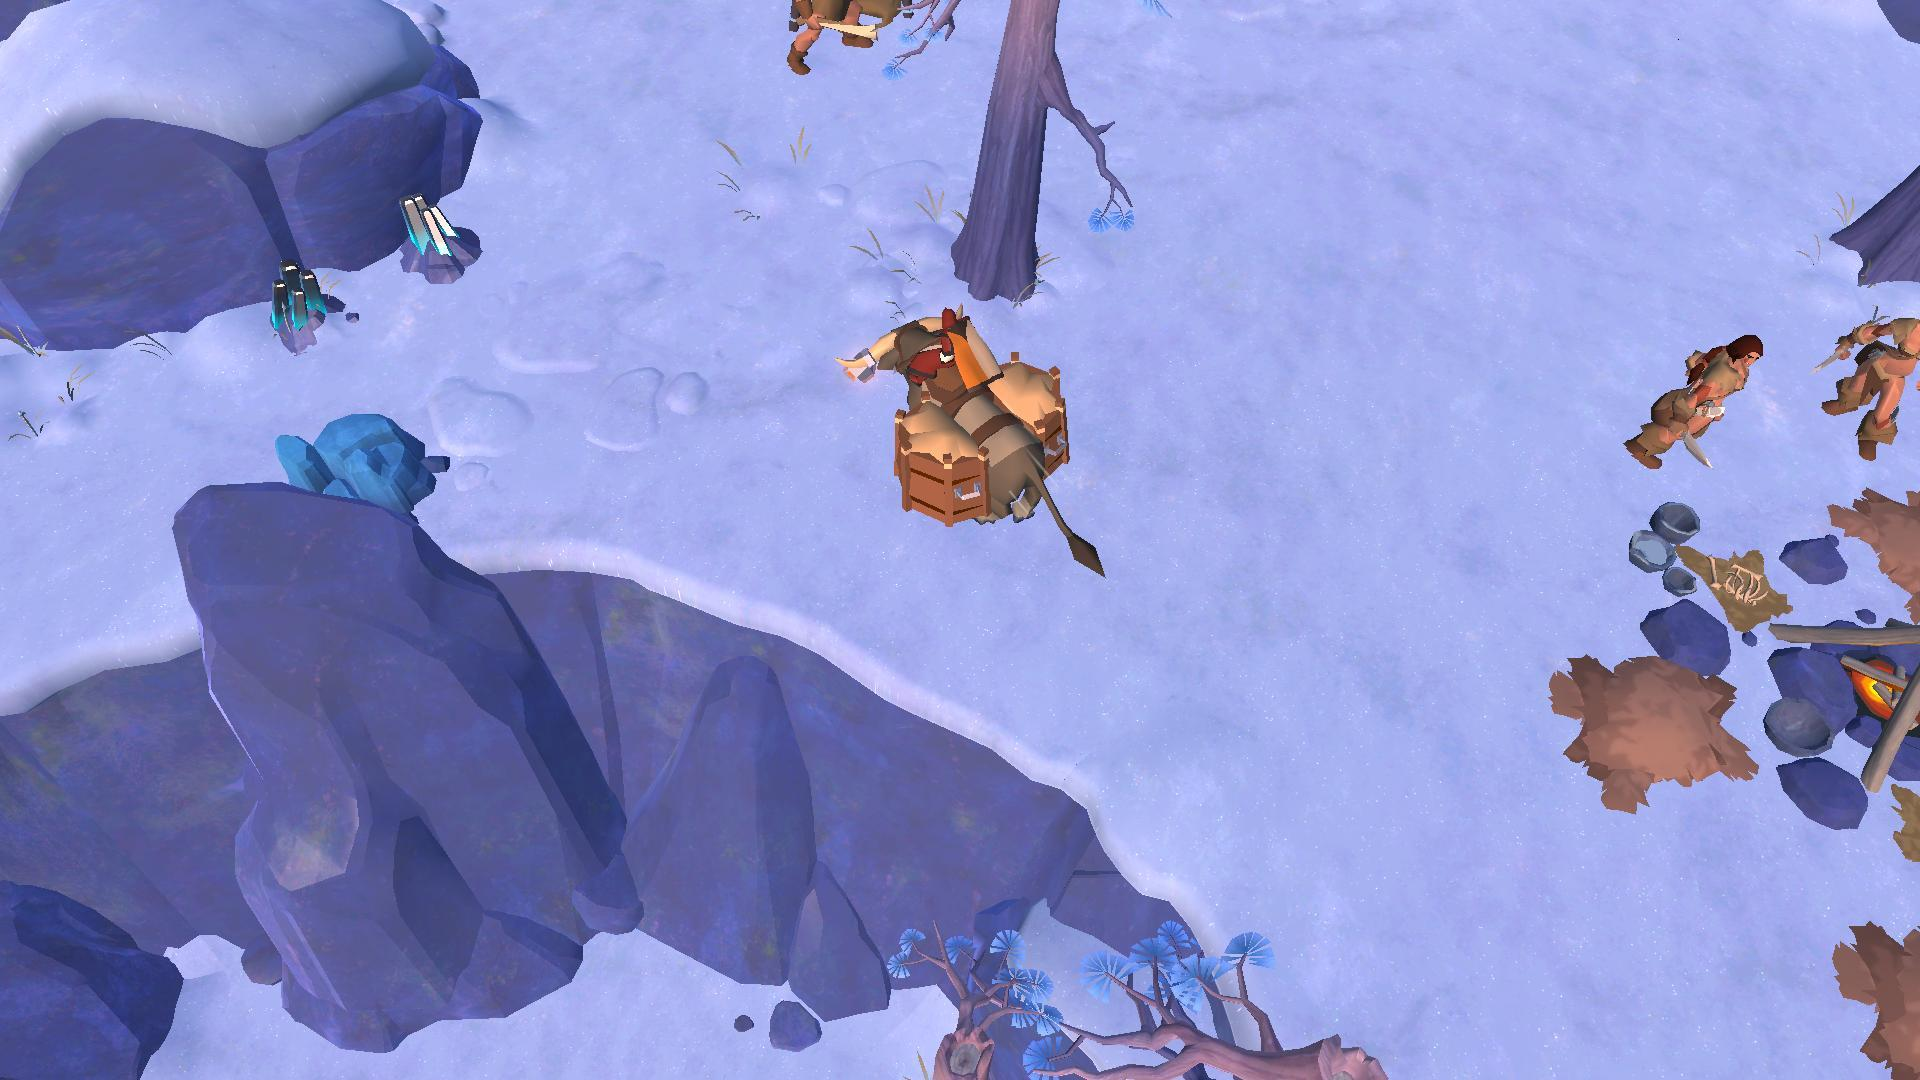enemy_factionKeeper: (1611, 330, 1759, 477), (1797, 313, 1920, 468)
ore_t4: (266, 260, 332, 331), (400, 187, 456, 265)
rock_t4: (262, 407, 438, 526)
